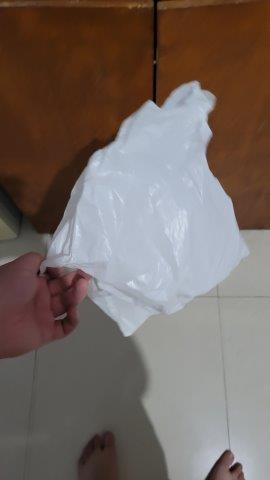plastik: (46, 80, 251, 333)
